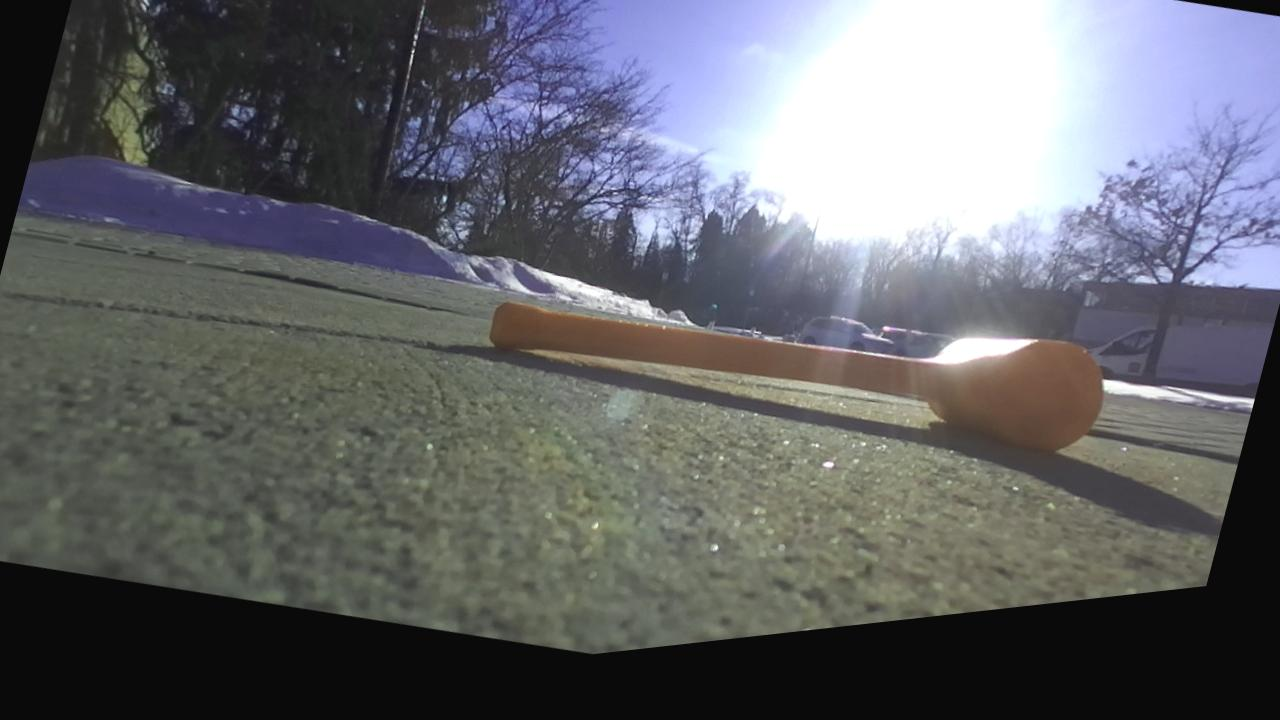mallet: (489, 302, 1103, 451)
